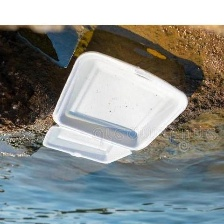foam_box: (36, 46, 192, 168)
